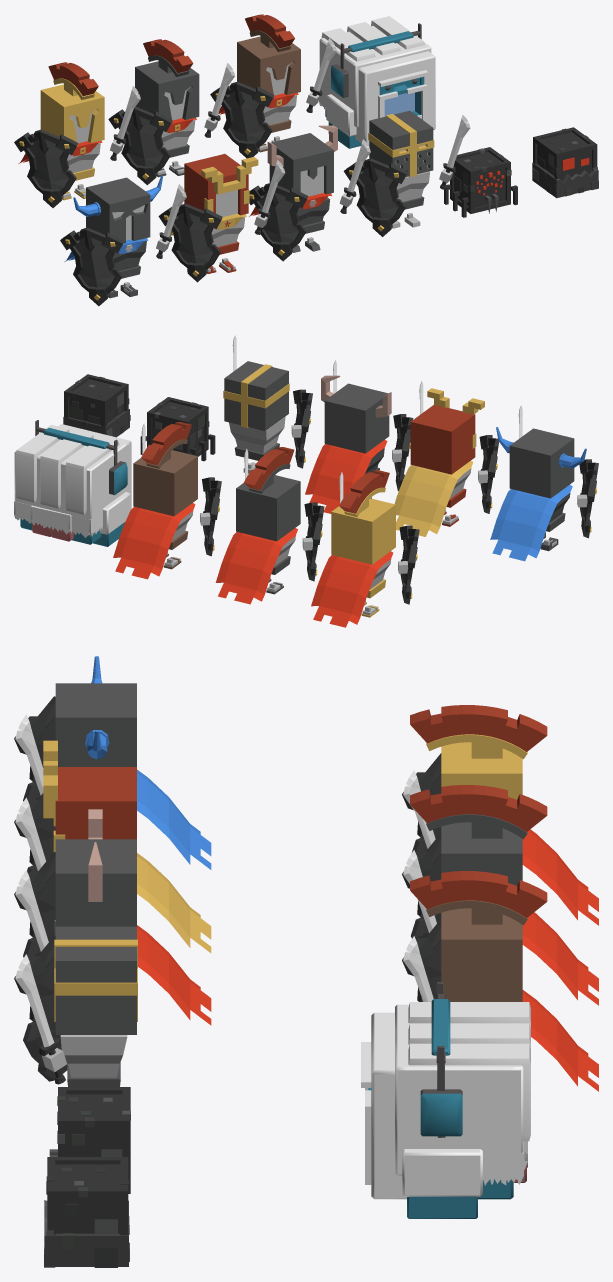
Rendered from Warriors.fbx.
3 renders of one model, top to bottom at view 1: azimuth 30°, elevation 25°; view 2: azimuth 150°, elevation 25°; view 3: azimuth 270°, elevation 25°, orthographic. The views are drawn at different scales.
Visible parts, largest first — view 1: Yeti, Hero_3, Hero_2, Hero_1, Hero_7, Hero_6, Hero_5, Hero_4, Evil, Spider, Shield, Shield_5 (+12 smaller); view 2: Yeti, Hero_1, Hero_3, Hero_2, Hero_6, Hero_7, Hero_5, Hero_4, Evil, Spider, Shield_6, Shield_5 (+5 smaller); view 3: Yeti, Hero_1, Hero_4, Hero_2, Hero_3, Hero_5, Hero_7, Hero_6, Evil, Spider, Shield_4, Shield_3 (+10 smaller).
Part boxes in pixels (box(x1,y1,x2,y2)): Yeti: box(319, 16, 435, 148); Hero_3: box(18, 62, 123, 200); Hero_2: box(113, 39, 218, 177); Hero_1: box(218, 14, 319, 152); Hero_7: box(64, 175, 169, 298); Hero_6: box(170, 154, 267, 273); Hero_5: box(249, 125, 353, 252); Hero_4: box(368, 110, 452, 228); Evil: box(532, 127, 598, 198); Spider: box(444, 147, 517, 217); Shield: box(60, 227, 123, 305); Shield_5: box(14, 129, 77, 207); Yeti: box(14, 420, 131, 546); Hero_1: box(113, 422, 210, 579); Hero_3: box(311, 470, 408, 627); Hero_2: box(215, 447, 312, 604); Hero_6: box(394, 388, 488, 536); Hero_7: box(490, 427, 587, 561); Hero_5: box(305, 375, 401, 513); Hero_4: box(223, 361, 301, 473); Evil: box(63, 374, 130, 437); Spider: box(140, 397, 215, 461); Shield_6: box(304, 502, 324, 581); Shield_5: box(399, 525, 419, 604); Yeti: box(361, 982, 530, 1218); Hero_1: box(410, 871, 598, 1091); Hero_4: box(41, 926, 137, 1086); Hero_2: box(410, 785, 598, 1005); Hero_3: box(410, 705, 598, 925); Hero_5: box(54, 809, 211, 1025); Hero_7: box(55, 656, 211, 869); Hero_6: box(43, 740, 211, 953); Evil: box(44, 1157, 129, 1267); Spider: box(49, 1087, 130, 1193); Shield_4: box(14, 936, 67, 1081); Shield_3: box(14, 852, 55, 957).
Size of the model in its own units: 2563 by 608 by 1439.
Materials: 1 (1 with a texture image).
